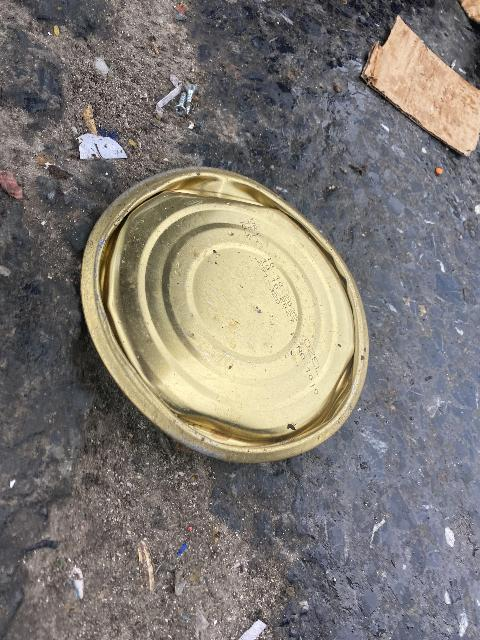Kagit: (360, 15, 480, 159)
Metal: (79, 168, 371, 467)
